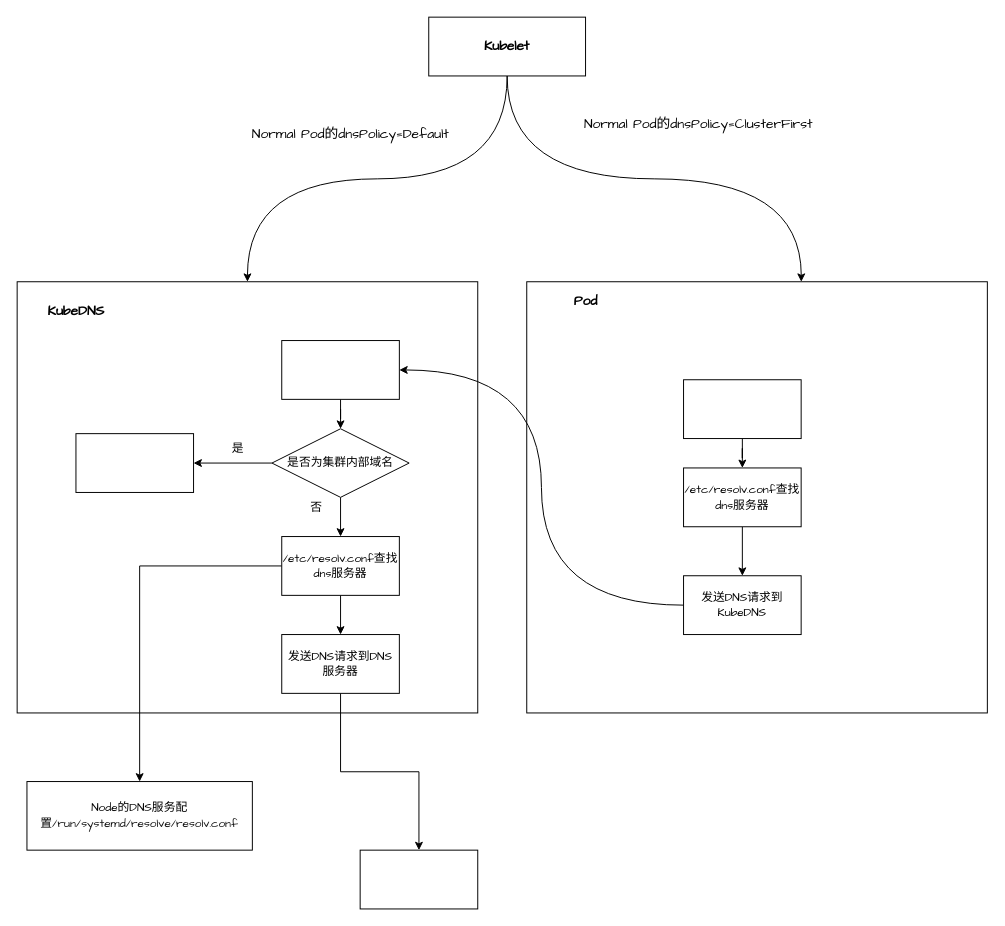
This 1005x926 diagram has some shape labels left out. The shapes that lost their labels are listed below. From the top down, each one's centre as x and y in pixels, then its label:
At (340,369): "CoreDNS服务".
At (742,409): "发起域名解析请求".
At (134,462): "完成内部域名解析".
At (418,879): "外部DNS服务".
